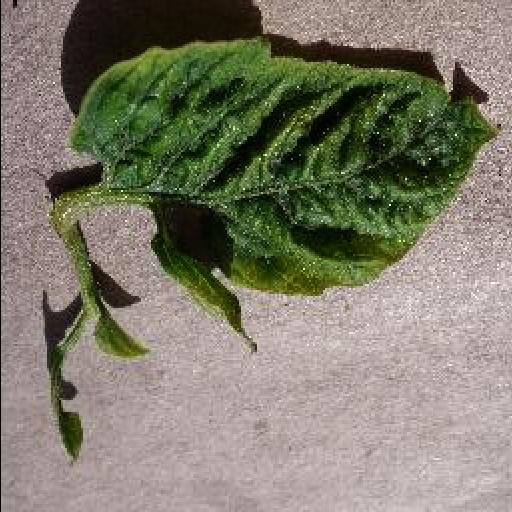disease_tomato: (74, 38, 494, 319)
